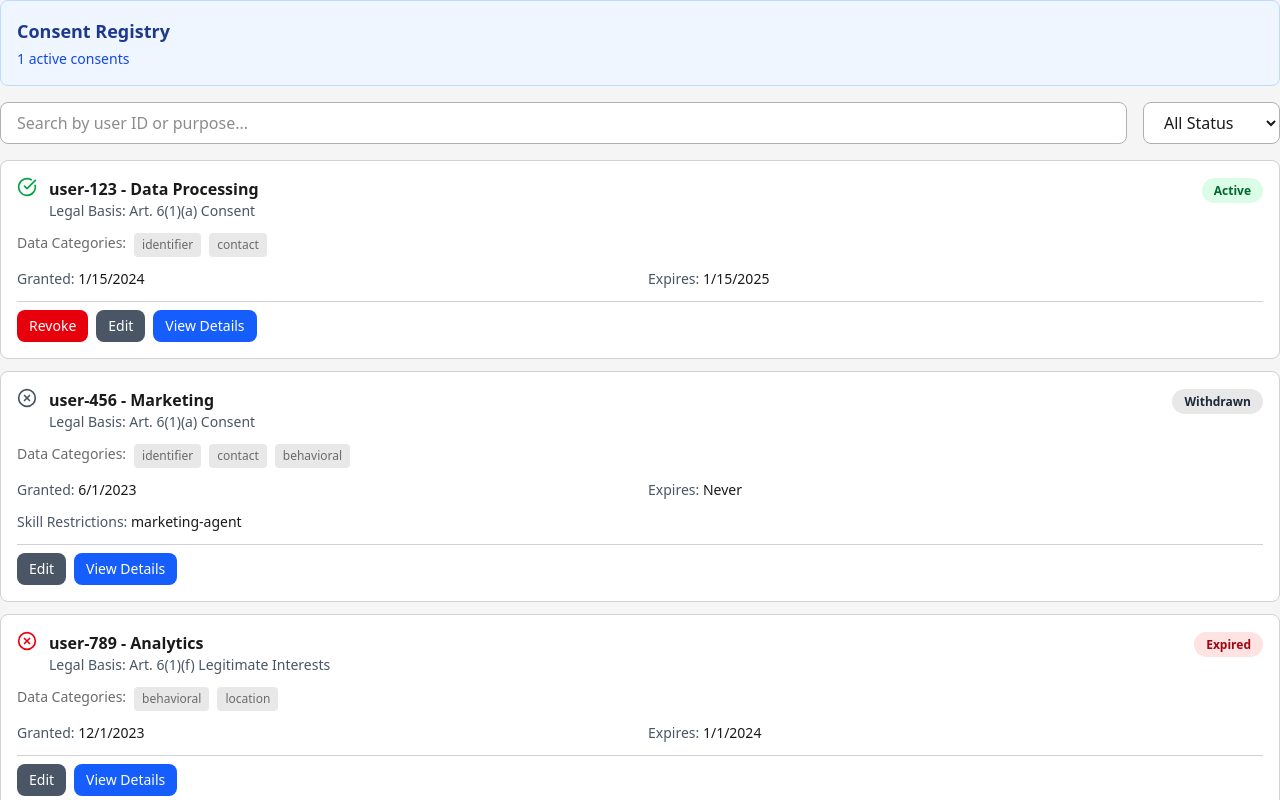
Test: ConsentRegistry › Filtering › filters consents by search query (user ID)
Type "user-456" into the field with placeholder "Search by user ID or purpose..." at [564, 123], box [0,102,1127,144]
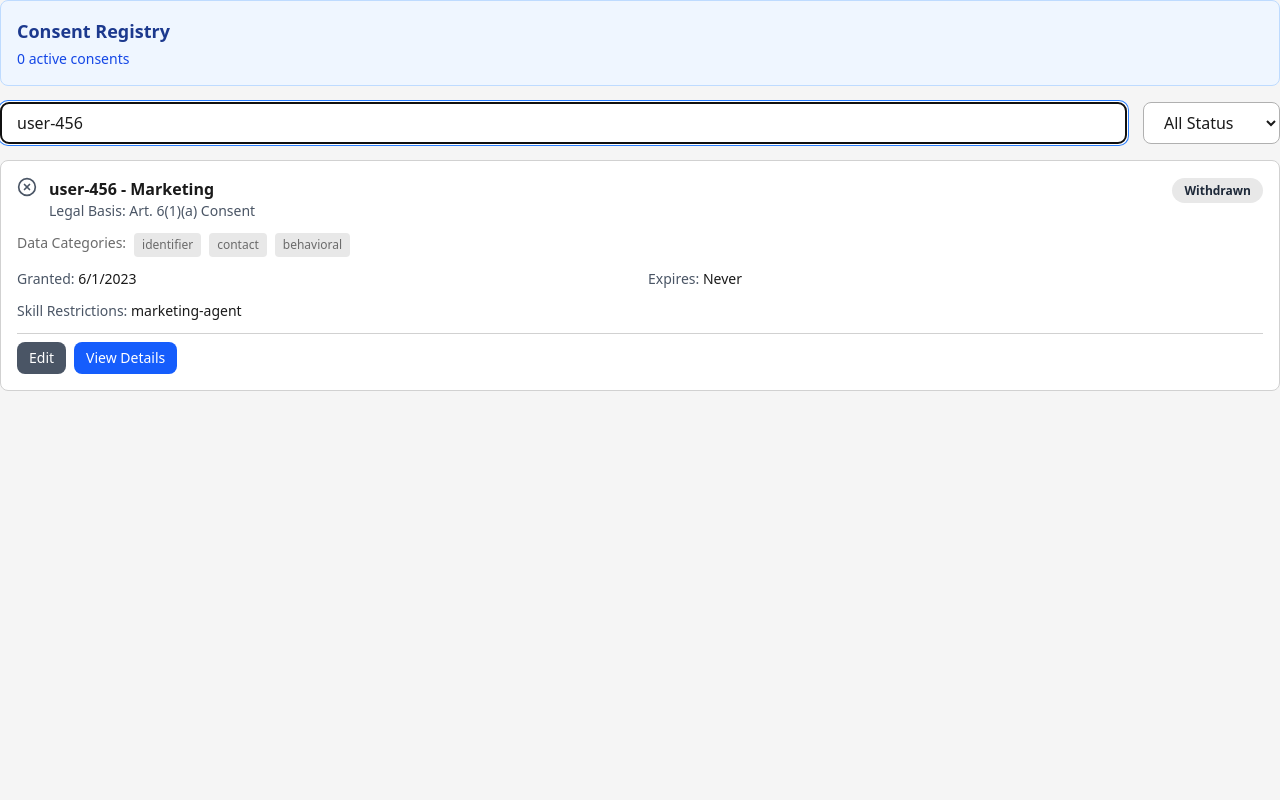
Expected: the element with test id "consent-row-consent-2" is shown, [0,160,1279,391]
Expected: the element with test id "consent-row-consent-1" is gone
